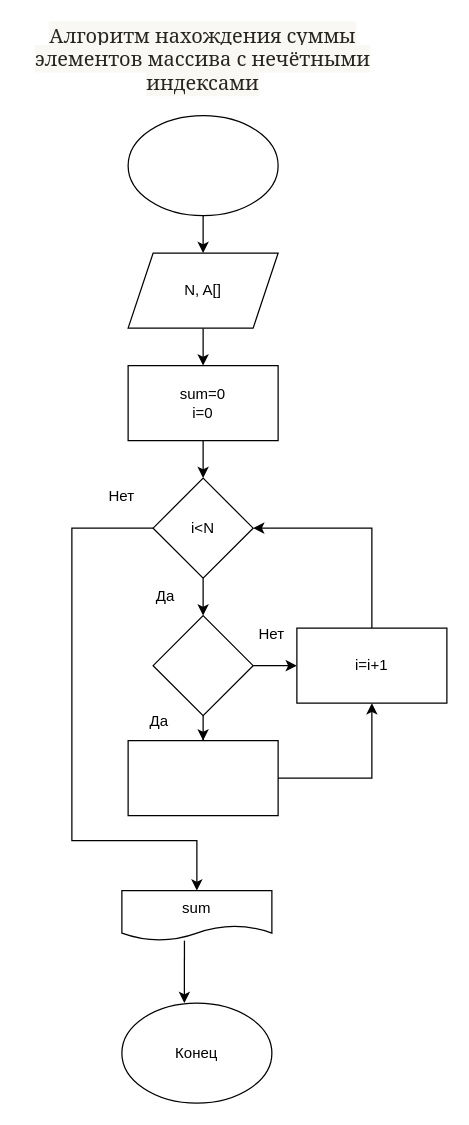
The diagram is 469 pixels wide and 1125 high, and some of its shapes have lost their labels. The centre of each missing label's shape, as x and y in pixels:
"i%2 ≠ 0" goes at point (202, 665).
"sum=sum+a[i]" goes at point (202, 777).
"Начало" goes at point (202, 165).
